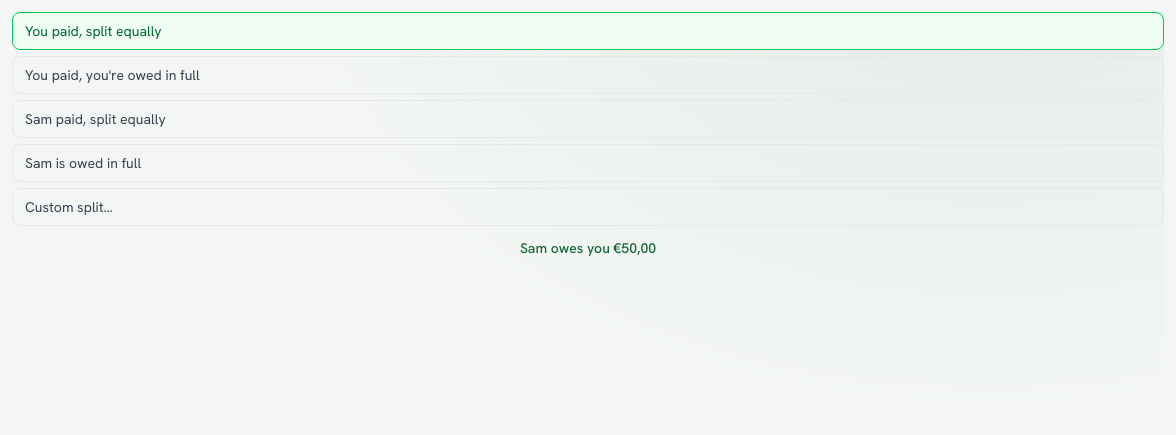
Test: SplitEditor › shows an even split in custom equal mode
Click the button "Custom split…" at (69, 207), box [12,188,1164,226]
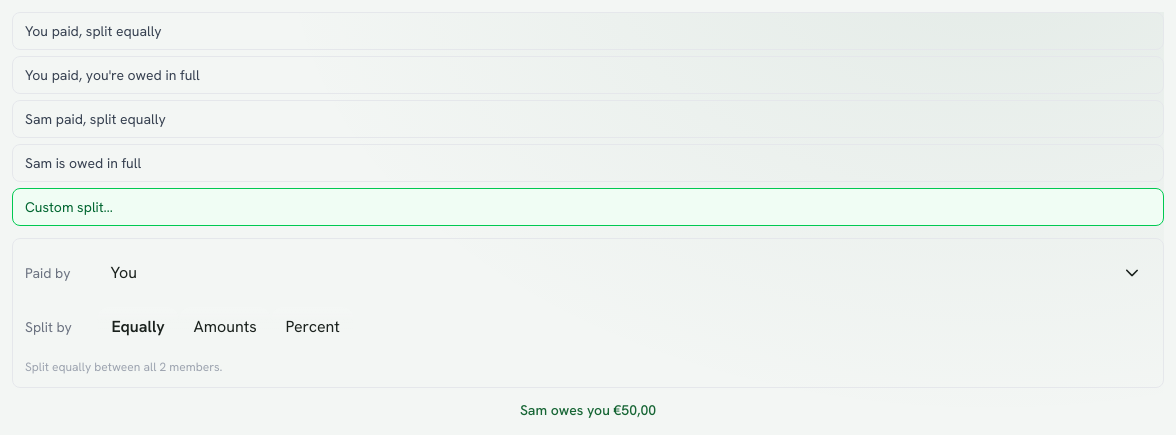
expect the text "Split equally between all 2 members." is shown: met, box [25,359,222,375]
